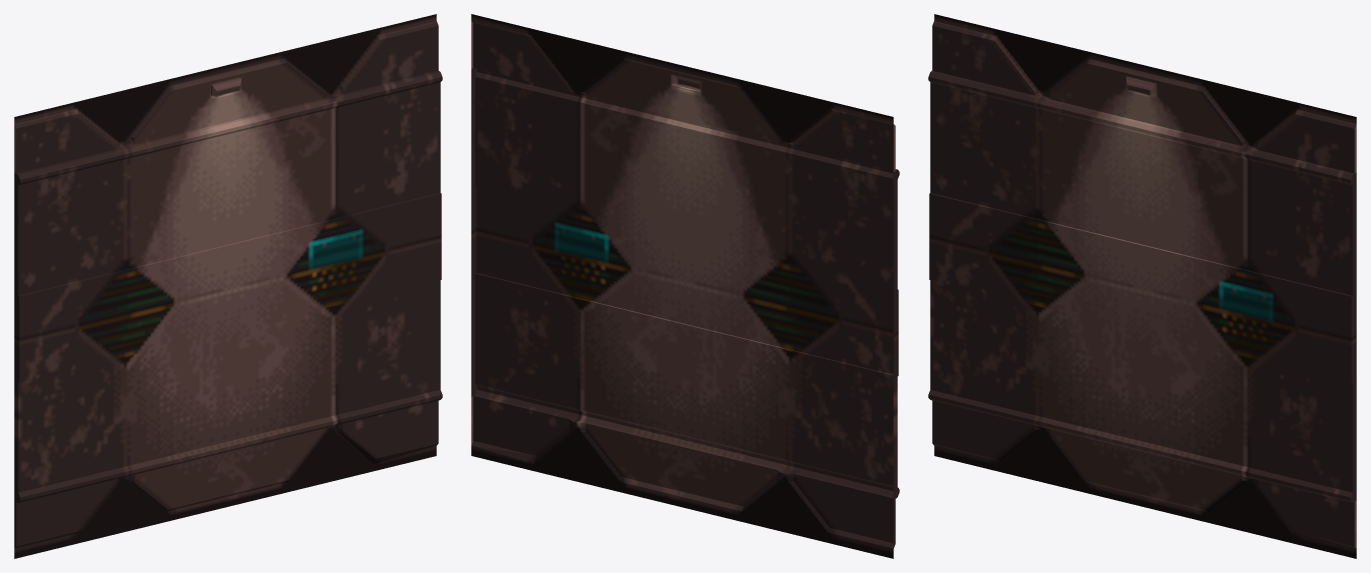
The model's file is eng2_3.fbx.
3 renders of one model, left to right at view 1: azimuth 30°, elevation 25°; view 2: azimuth 150°, elevation 25°; view 3: azimuth 330°, elevation 25°, orthographic.
Parts seen in each view (by area): view 1: eng2_3_mesh; view 2: eng2_3_mesh; view 3: eng2_3_mesh.
Boxes of the visible parts, x1,y1,x2,y2 form: eng2_3_mesh: [14, 14, 442, 558]; eng2_3_mesh: [471, 14, 899, 558]; eng2_3_mesh: [928, 14, 1356, 558].
Bounding box in the file's own units: 256 × 256 × 6.
